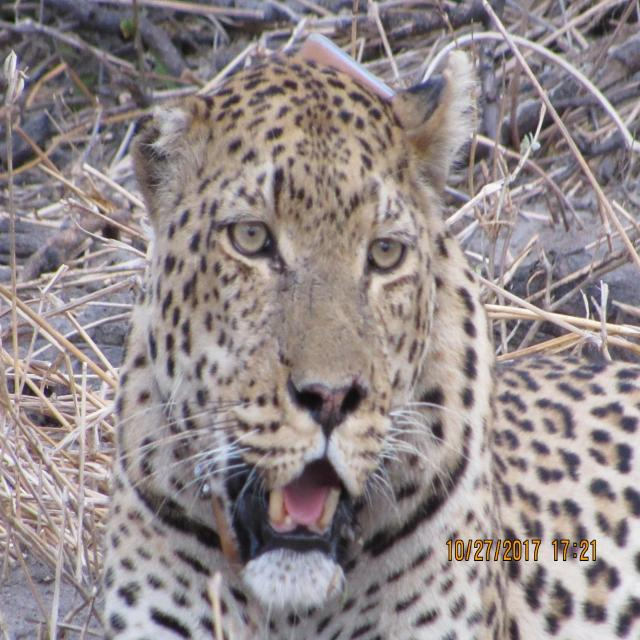Leopard: (93, 4, 640, 640)
